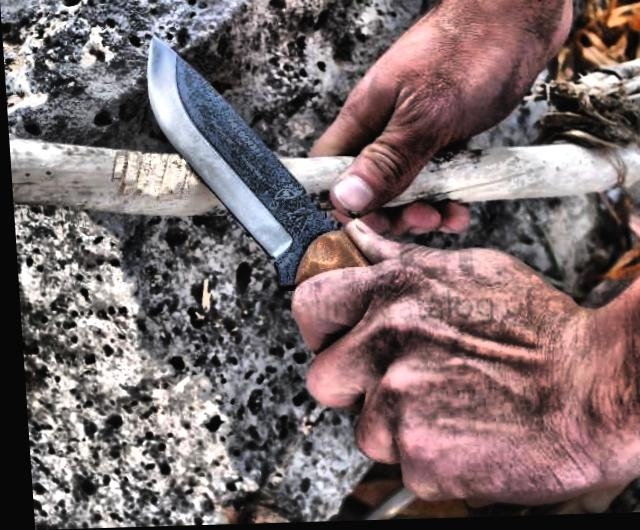knife: (126, 20, 388, 457)
